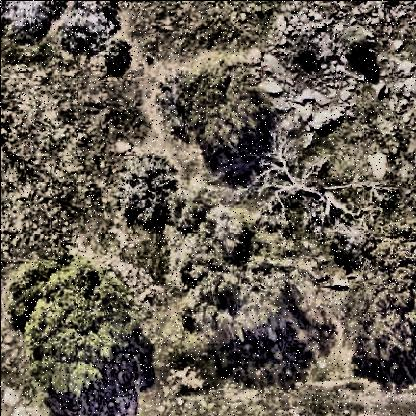tree-top: (11, 247, 145, 409), (160, 195, 302, 339), (141, 52, 269, 161), (347, 231, 416, 411), (246, 142, 372, 237), (2, 2, 134, 83), (103, 153, 189, 233)
